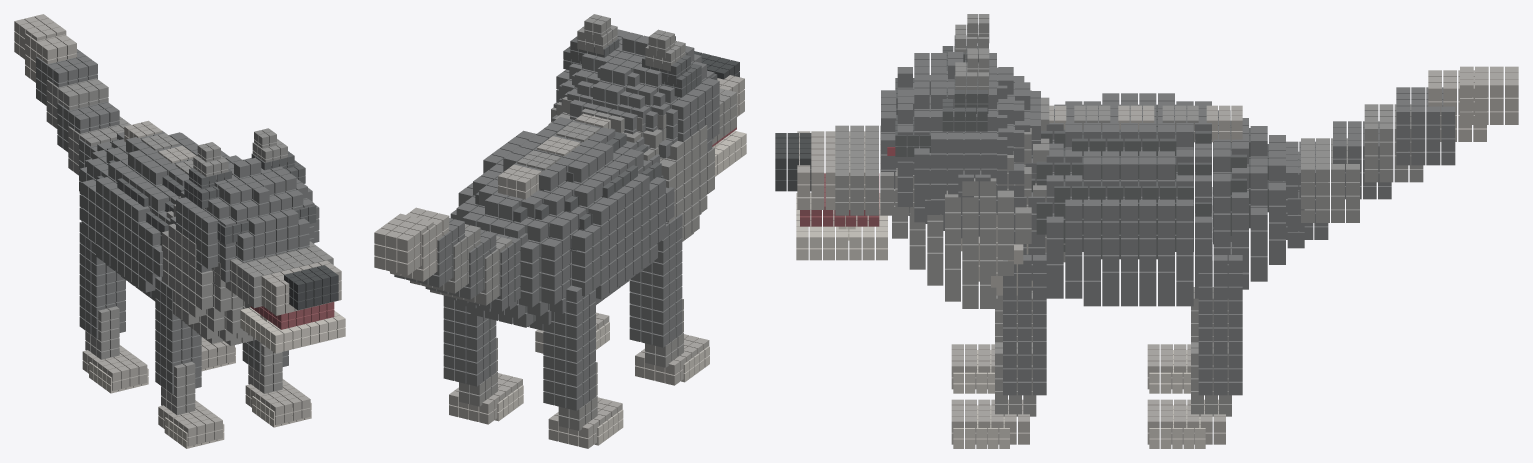
The model's file is wolf_v3.glb.
3 views of the same model, side by side, from view 1: azimuth 30°, elevation 25°; view 2: azimuth 150°, elevation 25°; view 3: azimuth 270°, elevation 25° (orthographic). The views are drawn at different scales.
Visible parts, largest first — view 1: deepgrey, midgrey, warmgrey, palegrey, charcoal, black, darkred; view 2: deepgrey, midgrey, warmgrey, charcoal, palegrey, black; view 3: deepgrey, midgrey, warmgrey, charcoal, palegrey, black, darkred.
Part boxes in pixels (x1,y1,x2,y2): deepgrey: (36, 49, 319, 393); midgrey: (46, 78, 333, 415); warmgrey: (14, 14, 341, 446); palegrey: (89, 307, 345, 448); charcoal: (97, 139, 316, 245); black: (284, 265, 338, 310); darkred: (250, 302, 334, 329); deepgrey: (394, 29, 719, 410); midgrey: (410, 14, 736, 430); warmgrey: (374, 75, 744, 448); charcoal: (475, 36, 717, 257); palegrey: (495, 131, 746, 445); black: (694, 51, 739, 79); deepgrey: (881, 52, 1455, 395); midgrey: (835, 14, 1423, 416); warmgrey: (797, 66, 1518, 444); charcoal: (895, 35, 1268, 259); palegrey: (796, 193, 1205, 448); black: (775, 133, 811, 191); darkred: (800, 173, 879, 226).
Size of the model in its own units: 1.06 by 2.32 by 4.21.
